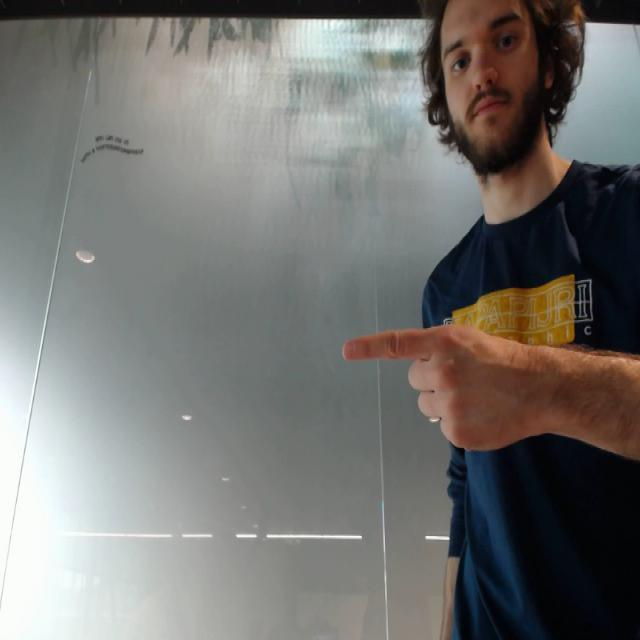left: (332, 322, 537, 452)
